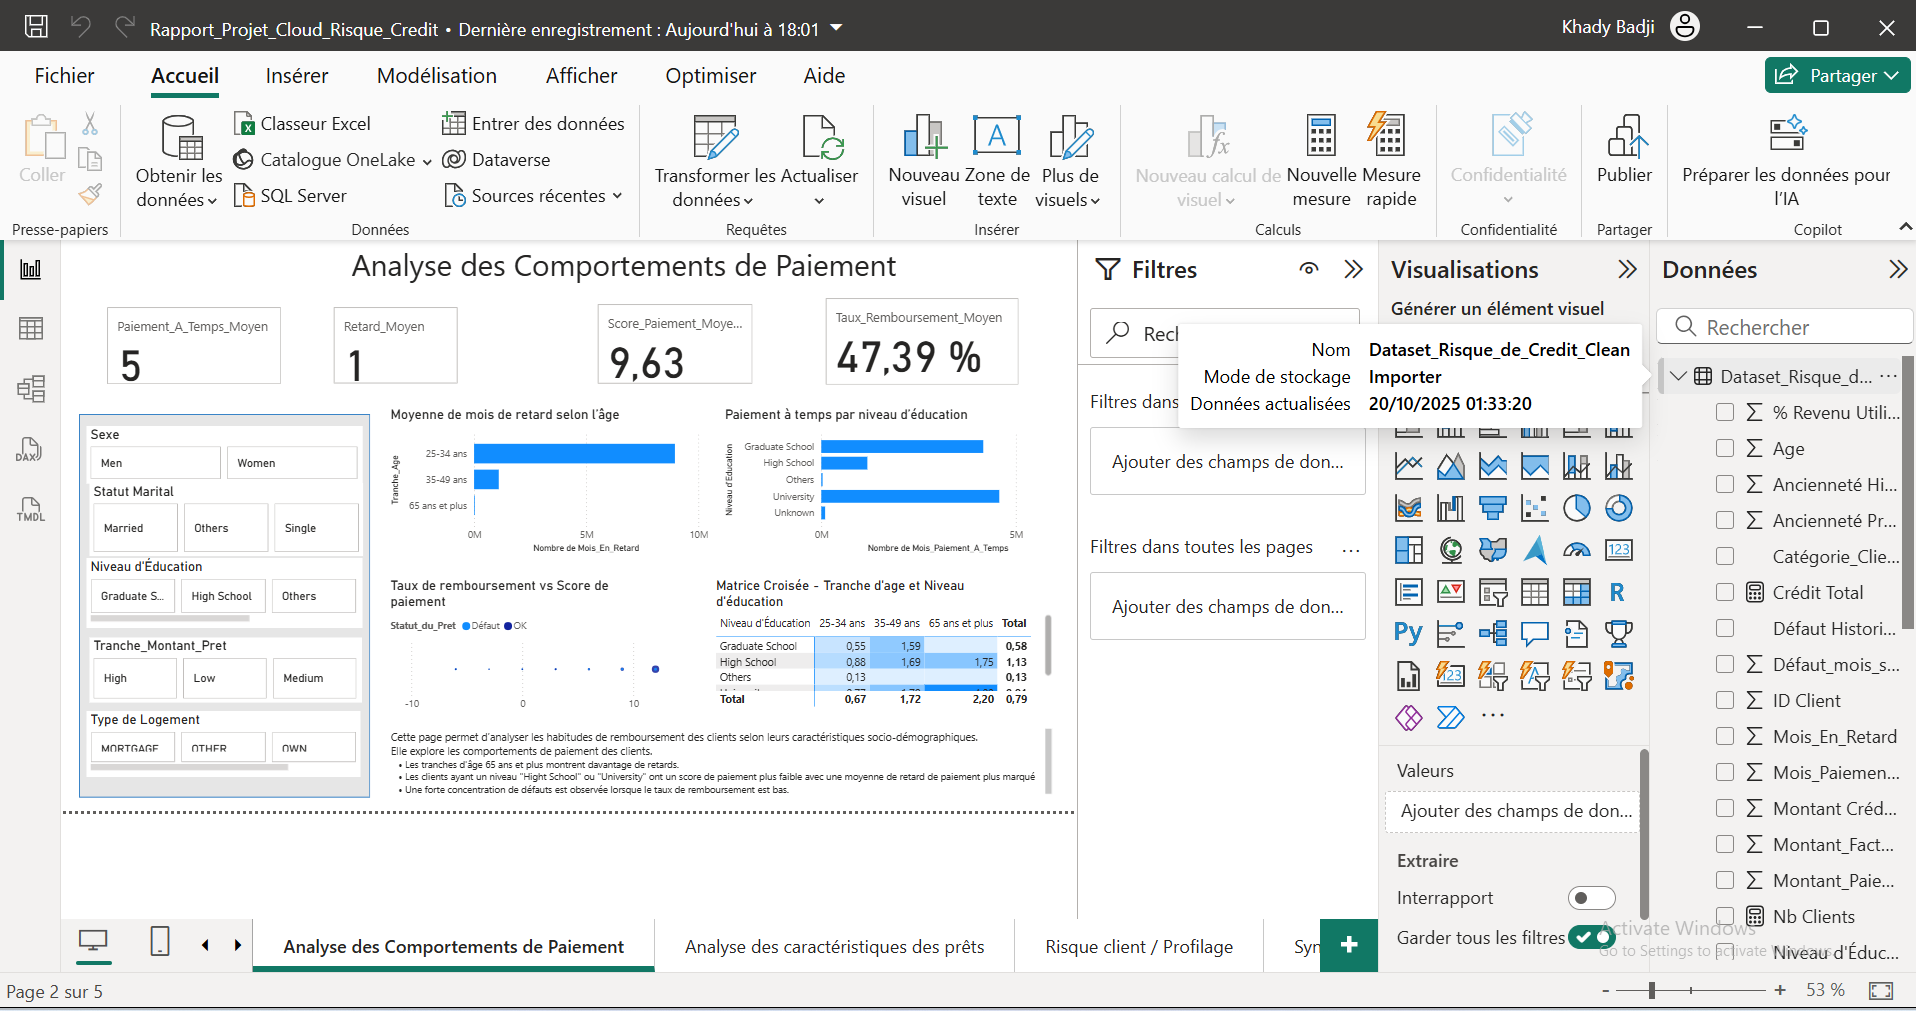

Layout of this report page (visuals, bound fields, positions):
{"tool":"powerbi","page":{"name":"Analyse des Comportements de Paiement","canvas":[1280,720],"ordinal":1},"visuals":[{"type":"textbox","box":[361.6,0,713.6,67.2],"z":0},{"type":"shape","box":[22.4,219.7,366.9,483.2],"z":1000},{"type":"advancedSlicerVisual","fields":{"Values":["Dataset_Risque_de_Credit_Clean.Sexe"]},"box":[32,233.6,347.7,72.5],"z":2000},{"type":"cardVisual","fields":{"Data":["Dataset_Risque_de_Credit_Clean.Paiement_A_Temps_Moyen1"]},"box":[52.3,78.9,229.3,107.7],"z":3000},{"type":"cardVisual","fields":{"Data":["Dataset_Risque_de_Credit_Clean.Retard_Moyen1"]},"box":[339.2,80,166.4,106.7],"z":4000},{"type":"cardVisual","fields":{"Data":["Dataset_Risque_de_Credit_Clean.Score_Paiement_Moyen1"]},"box":[670.9,75.7,205.9,110.9],"z":5000},{"type":"cardVisual","fields":{"Data":["Dataset_Risque_de_Credit_Clean.Taux_Remboursement_Moyen"]},"box":[957.9,67.2,253.9,119.5],"z":6000},{"type":"barChart","title":" Moyenne de mois de retard selon l’âge","fields":{"Category":["Dataset_Risque_de_Credit_Clean.Tranche_Age"],"Y":["CountNonNull(Dataset_Risque_de_Credit_Clean.Mois_En_Retard)"]},"box":[410.7,210.1,409.6,188.8],"z":7000},{"type":"clusteredBarChart","title":"Paiement à temps par niveau d’éducation","fields":{"Category":["Dataset_Risque_de_Credit_Clean.Niveau d'Éducation"],"Y":["CountNonNull(Dataset_Risque_de_Credit_Clean.Mois_Paiement_A_Temps)"]},"box":[830.9,210.1,434.1,188.8],"z":8000},{"type":"scatterChart","title":"Taux de remboursement vs Score de paiement","fields":{"X":["Dataset_Risque_de_Credit_Clean.Score_Paiement"],"Series":["Dataset_Risque_de_Credit_Clean.Statut_du_Pret"],"Size":["CountNonNull(Dataset_Risque_de_Credit_Clean.Montant Crédit Maximum)"]},"box":[410.7,424.5,392.5,177.1],"z":9000},{"type":"advancedSlicerVisual","fields":{"Values":["Dataset_Risque_de_Credit_Clean.Statut Marital"]},"box":[35.6,306,344.9,92.3],"z":10000},{"type":"advancedSlicerVisual","title":"Niveau d''Éducation","fields":{"Values":["Dataset_Risque_de_Credit_Clean.Niveau d'Éducation"]},"box":[32.4,399.9,346.5,87.4],"z":11000},{"type":"advancedSlicerVisual","fields":{"Values":["Dataset_Risque_de_Credit_Clean.Type de Logement"]},"box":[32,594.1,344.5,82.1],"z":12000},{"type":"advancedSlicerVisual","fields":{"Values":["Dataset_Risque_de_Credit_Clean.Tranche_Montant_Pret"]},"box":[35.2,500.3,343.5,82.1],"z":13000},{"type":"textbox","box":[410.7,610.1,842.7,101.3],"z":14000},{"type":"pivotTable","title":"Matrice Croisée - Tranche d''age et Niveau d''éducation","fields":{"Rows":["Dataset_Risque_de_Credit_Clean.Niveau d'Éducation"],"Columns":["Dataset_Risque_de_Credit_Clean.Tranche_Age"],"Values":["Avg(Dataset_Risque_de_Credit_Clean.Mois_En_Retard)"]},"box":[820.3,424.5,433.1,167.5],"z":15000}]}

Visuals, with their boxes on the page's 1280x720 design canvas (x1, y1, x2, y2). These are canvas units, not pixel positions in the 1916x1011 screenshot, which may show the page scaled, cropped or inside an application window:
textbox: bbox=[362, 0, 1075, 67]
shape: bbox=[22, 220, 389, 703]
advancedSlicerVisual - Dataset_Risque_de_Credit_Clean.Sexe: bbox=[32, 234, 380, 306]
cardVisual - Dataset_Risque_de_Credit_Clean.Paiement_A_Temps_Moyen1: bbox=[52, 79, 282, 187]
cardVisual - Dataset_Risque_de_Credit_Clean.Retard_Moyen1: bbox=[339, 80, 506, 187]
cardVisual - Dataset_Risque_de_Credit_Clean.Score_Paiement_Moyen1: bbox=[671, 76, 877, 187]
cardVisual - Dataset_Risque_de_Credit_Clean.Taux_Remboursement_Moyen: bbox=[958, 67, 1212, 187]
" Moyenne de mois de retard selon l’âge" barChart: bbox=[411, 210, 820, 399]
"Paiement à temps par niveau d’éducation" clusteredBarChart: bbox=[831, 210, 1265, 399]
"Taux de remboursement vs Score de paiement" scatterChart: bbox=[411, 424, 803, 602]
advancedSlicerVisual - Dataset_Risque_de_Credit_Clean.Statut Marital: bbox=[36, 306, 380, 398]
"Niveau d''Éducation" advancedSlicerVisual: bbox=[32, 400, 379, 487]
advancedSlicerVisual - Dataset_Risque_de_Credit_Clean.Type de Logement: bbox=[32, 594, 376, 676]
advancedSlicerVisual - Dataset_Risque_de_Credit_Clean.Tranche_Montant_Pret: bbox=[35, 500, 379, 582]
textbox: bbox=[411, 610, 1253, 711]
"Matrice Croisée - Tranche d''age et Niveau d''éducation" pivotTable: bbox=[820, 424, 1253, 592]
